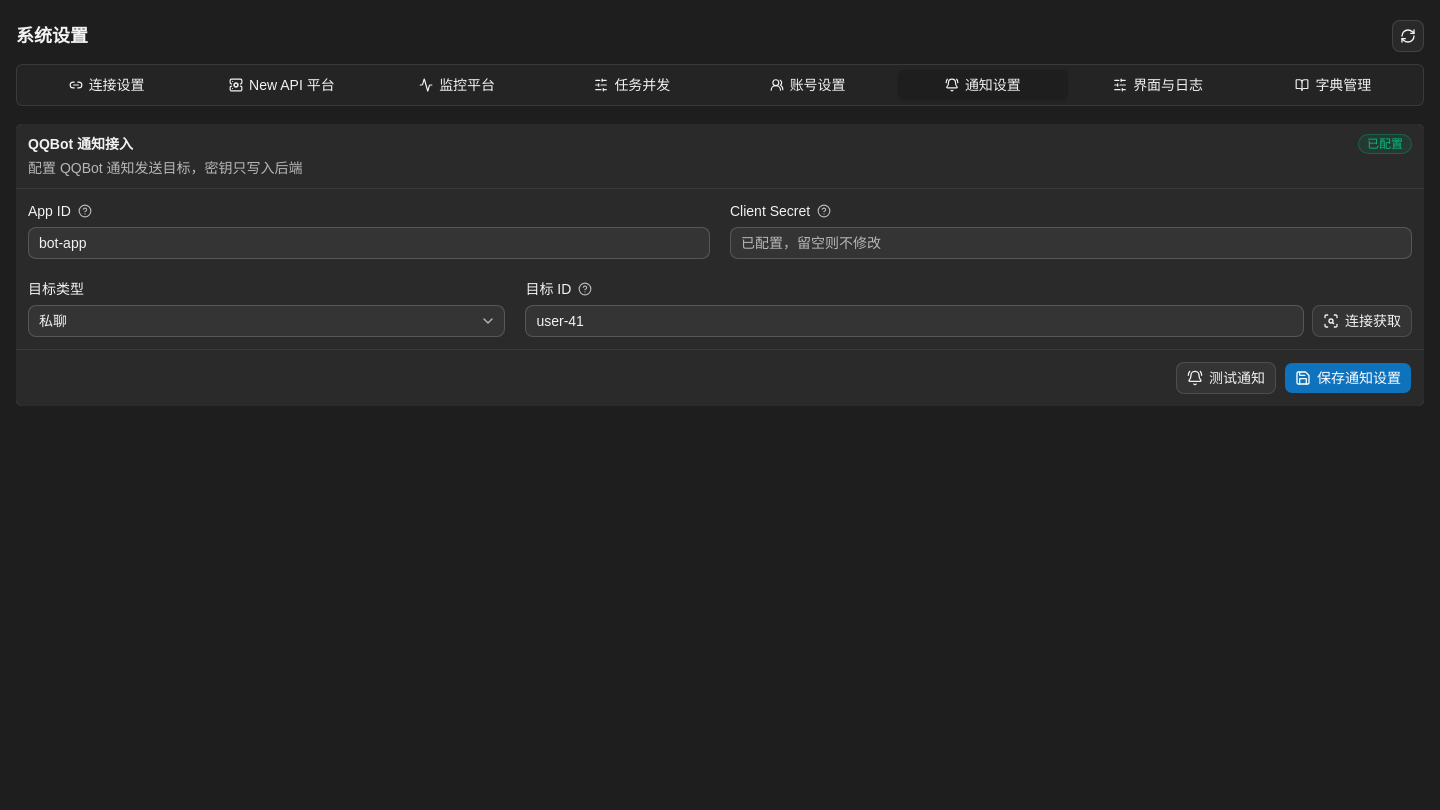
通知测试业务结果 › 明确发送成功时展示服务端详情与成功状态
What coordinates should you click on to do the following:
click the button "测试通知"
I would click on:
 (1226, 378)
Its box is left=1176, top=362, right=1276, bottom=394.
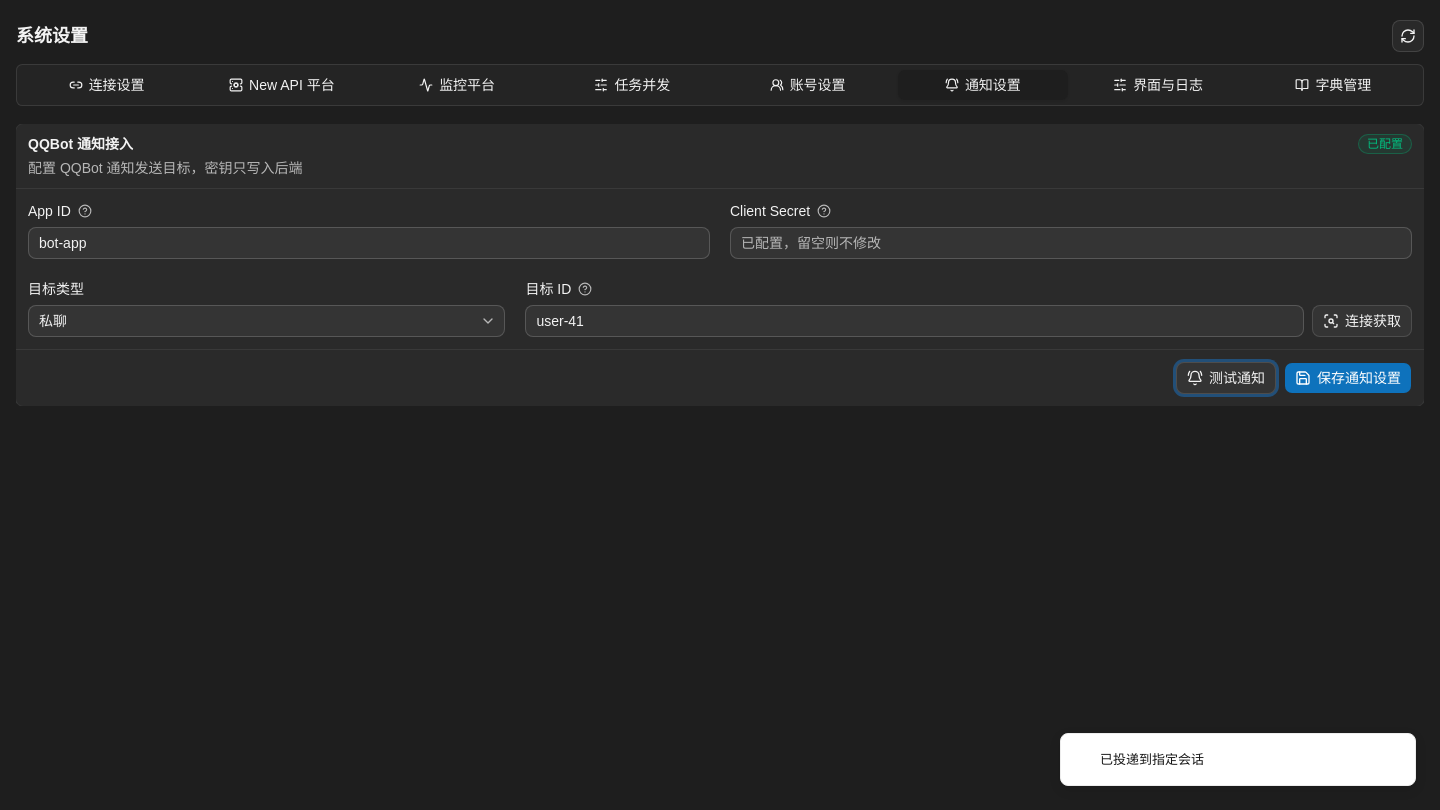
Expected: the text "已投递到指定会话" is shown, left=1100, top=750, right=1204, bottom=769
